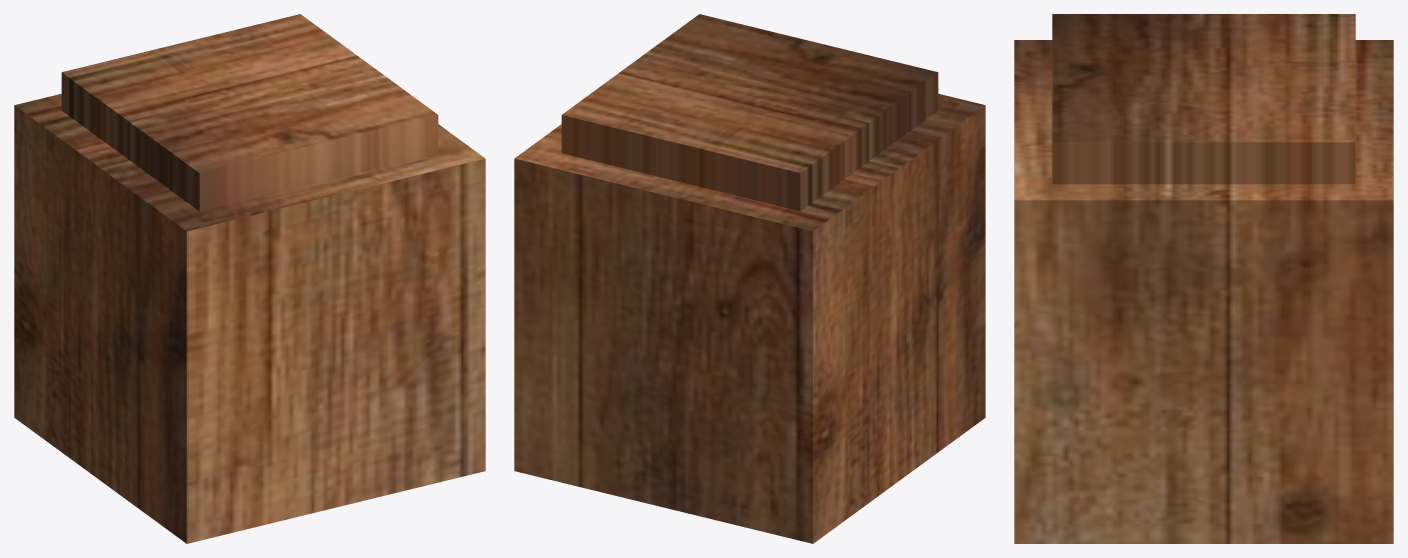
The model's file is wood.glb.
3 views of the same model, side by side, from view 1: azimuth 30°, elevation 25°; view 2: azimuth 150°, elevation 25°; view 3: azimuth 270°, elevation 25° (orthographic). The views are drawn at different scales.
Visible parts, largest first — view 1: Cube; view 2: Cube; view 3: Cube.
Boxes of the visible parts, x1,y1,x2,y2 form: Cube: [14, 14, 485, 543]; Cube: [514, 14, 985, 543]; Cube: [1014, 14, 1393, 543].
Size of the model in its own units: 2 by 2.24 by 2.
1 material, 1 textured.
